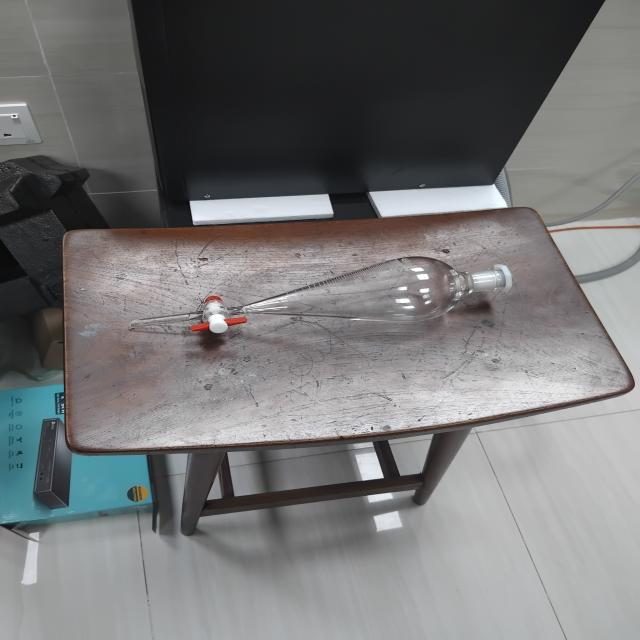Separating_Funnel: (117, 244, 534, 355)
